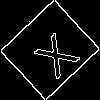X: (25, 25, 81, 80)
